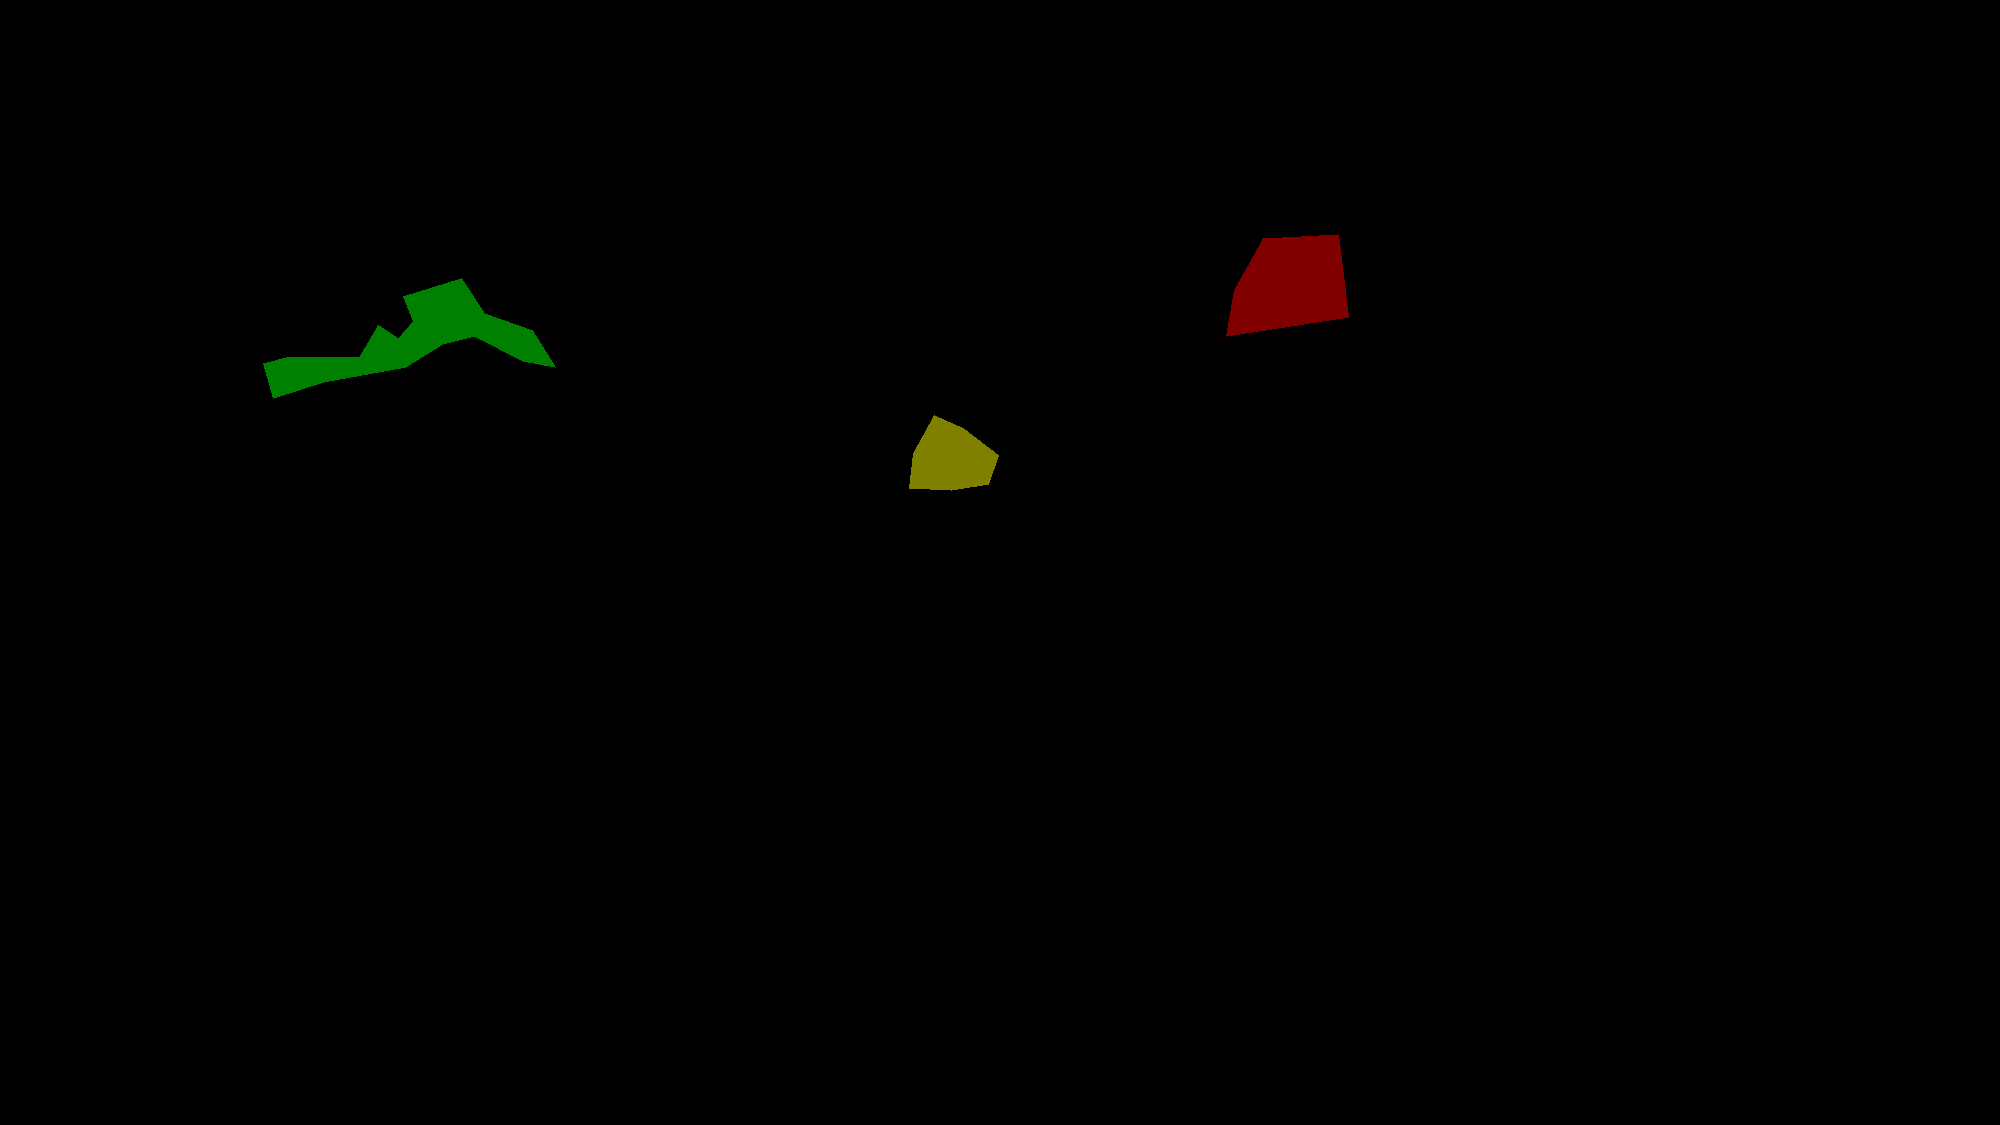fire: (262, 277, 555, 398), (1227, 234, 1348, 337), (909, 415, 999, 490)
